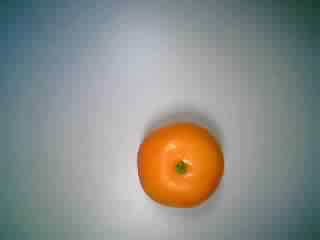orange: (129, 111, 224, 213)
